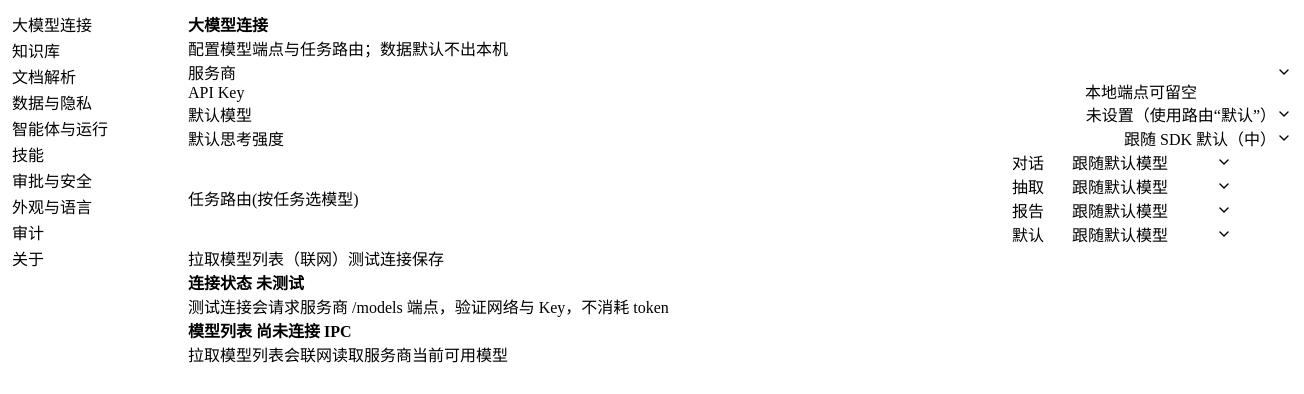
Test: Settings document parse pane › shows idle, resident, reload, and module names
Step 1. Click the button "文档解析" → (100, 76), box [12,64,188,88]
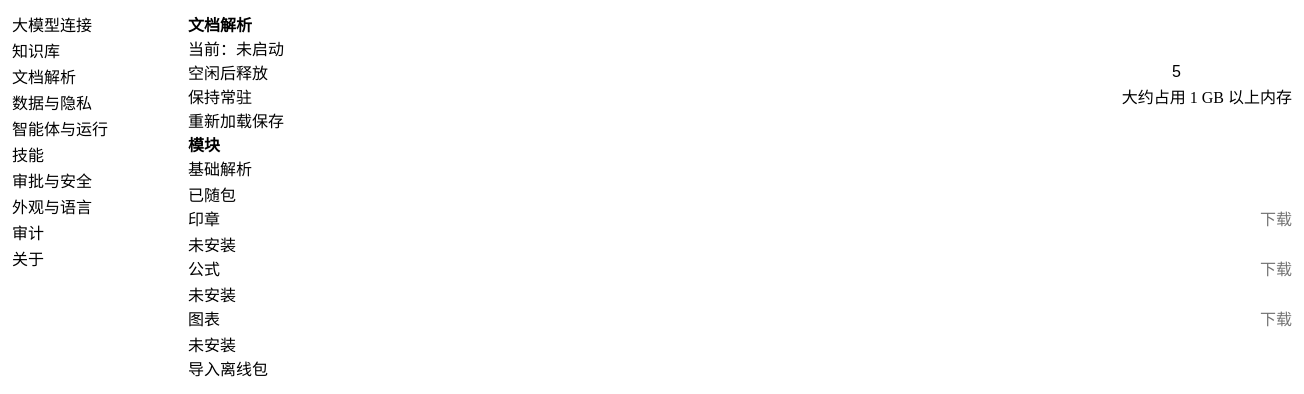
Result: the heading "文档解析" is shown at [188,17,252,34]
Result: the text "空闲后释放" is shown at [188,60,268,84]
Result: the text "保持常驻" is shown at [188,84,252,108]
